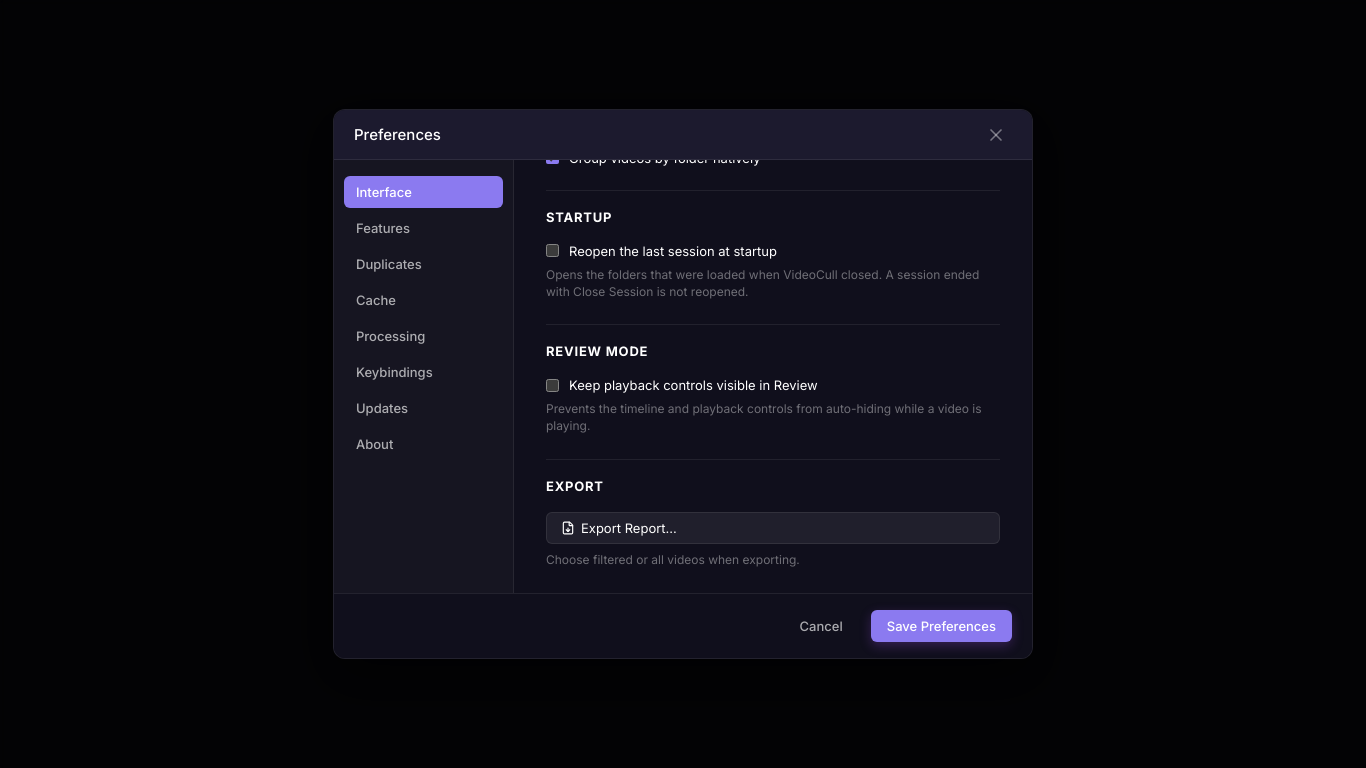
SettingsModal integration behavior › shows an export failure message when report export fails
The width and height of the screenshot is (1366, 768).
(page scrolled)
Click the button "Export Report...": (629, 528) [546,512,1000,544]
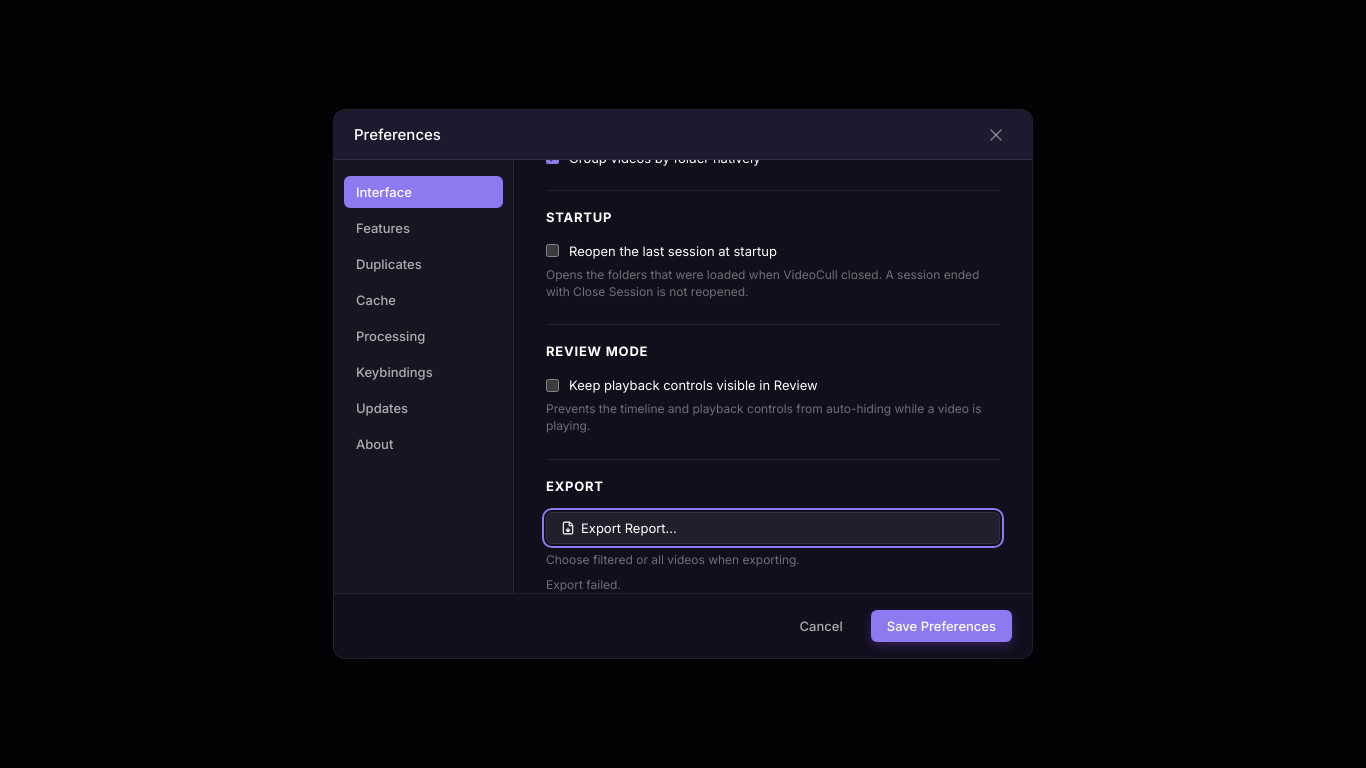
expect the text "Export failed." is shown: met, box [546,577,621,592]
